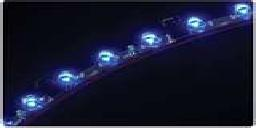LED: (54, 68, 86, 92), (96, 48, 125, 73), (138, 31, 165, 51)
